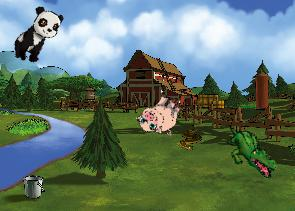crocodile: (216, 123, 285, 180)
panda: (8, 2, 66, 69)
pig: (133, 87, 187, 142)
